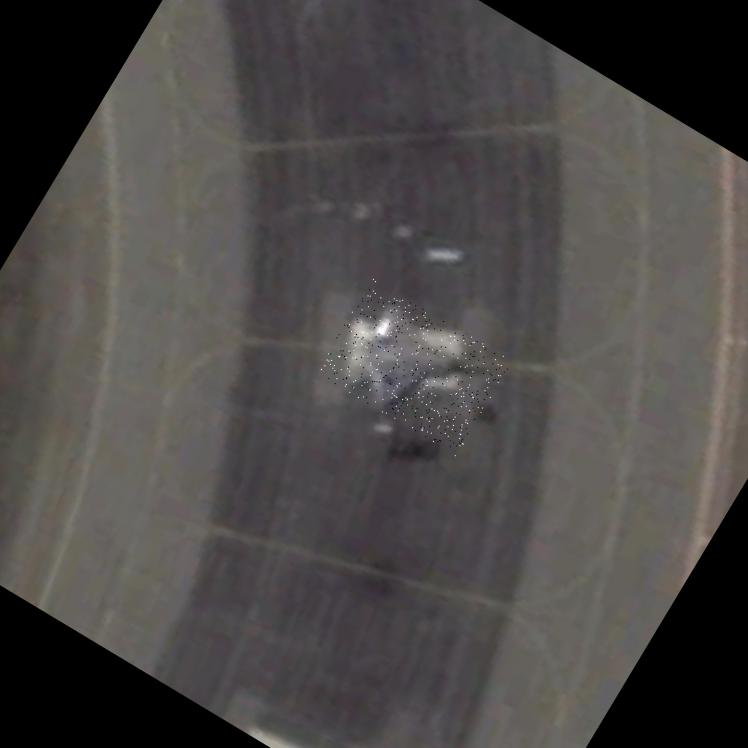A15: (315, 278, 513, 458)
